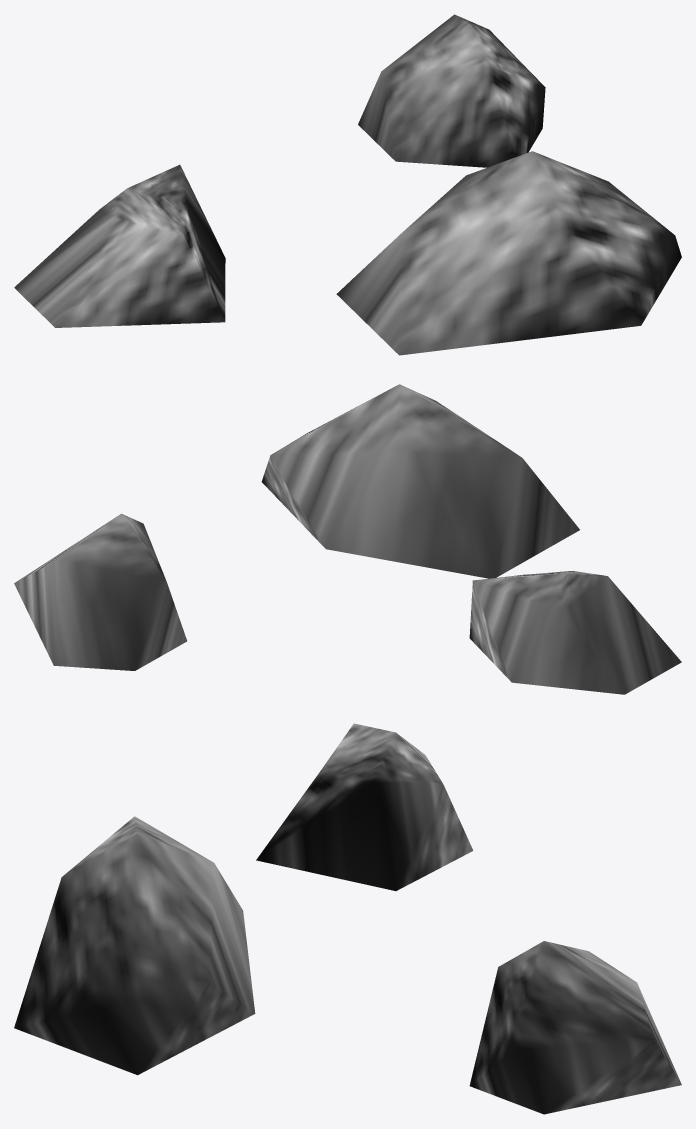
Rendered from Stone04.obj.
The picture shows the model from 3 angles, top to bottom: view 1: azimuth 30°, elevation 25°; view 2: azimuth 150°, elevation 25°; view 3: azimuth 270°, elevation 25°; orthographic projection. The views are drawn at different scales.
Visible parts, largest first — view 1: Mesh_0; view 2: Mesh_0; view 3: Mesh_0.
Part boxes in pixels (x1,y1,x2,y2): Mesh_0: (14,14,681,355); Mesh_0: (14,384,681,694); Mesh_0: (14,723,681,1114).
Bounding box in the file's own units: 1.15 × 0.3013 × 1.02.
1 material, 1 textured.
